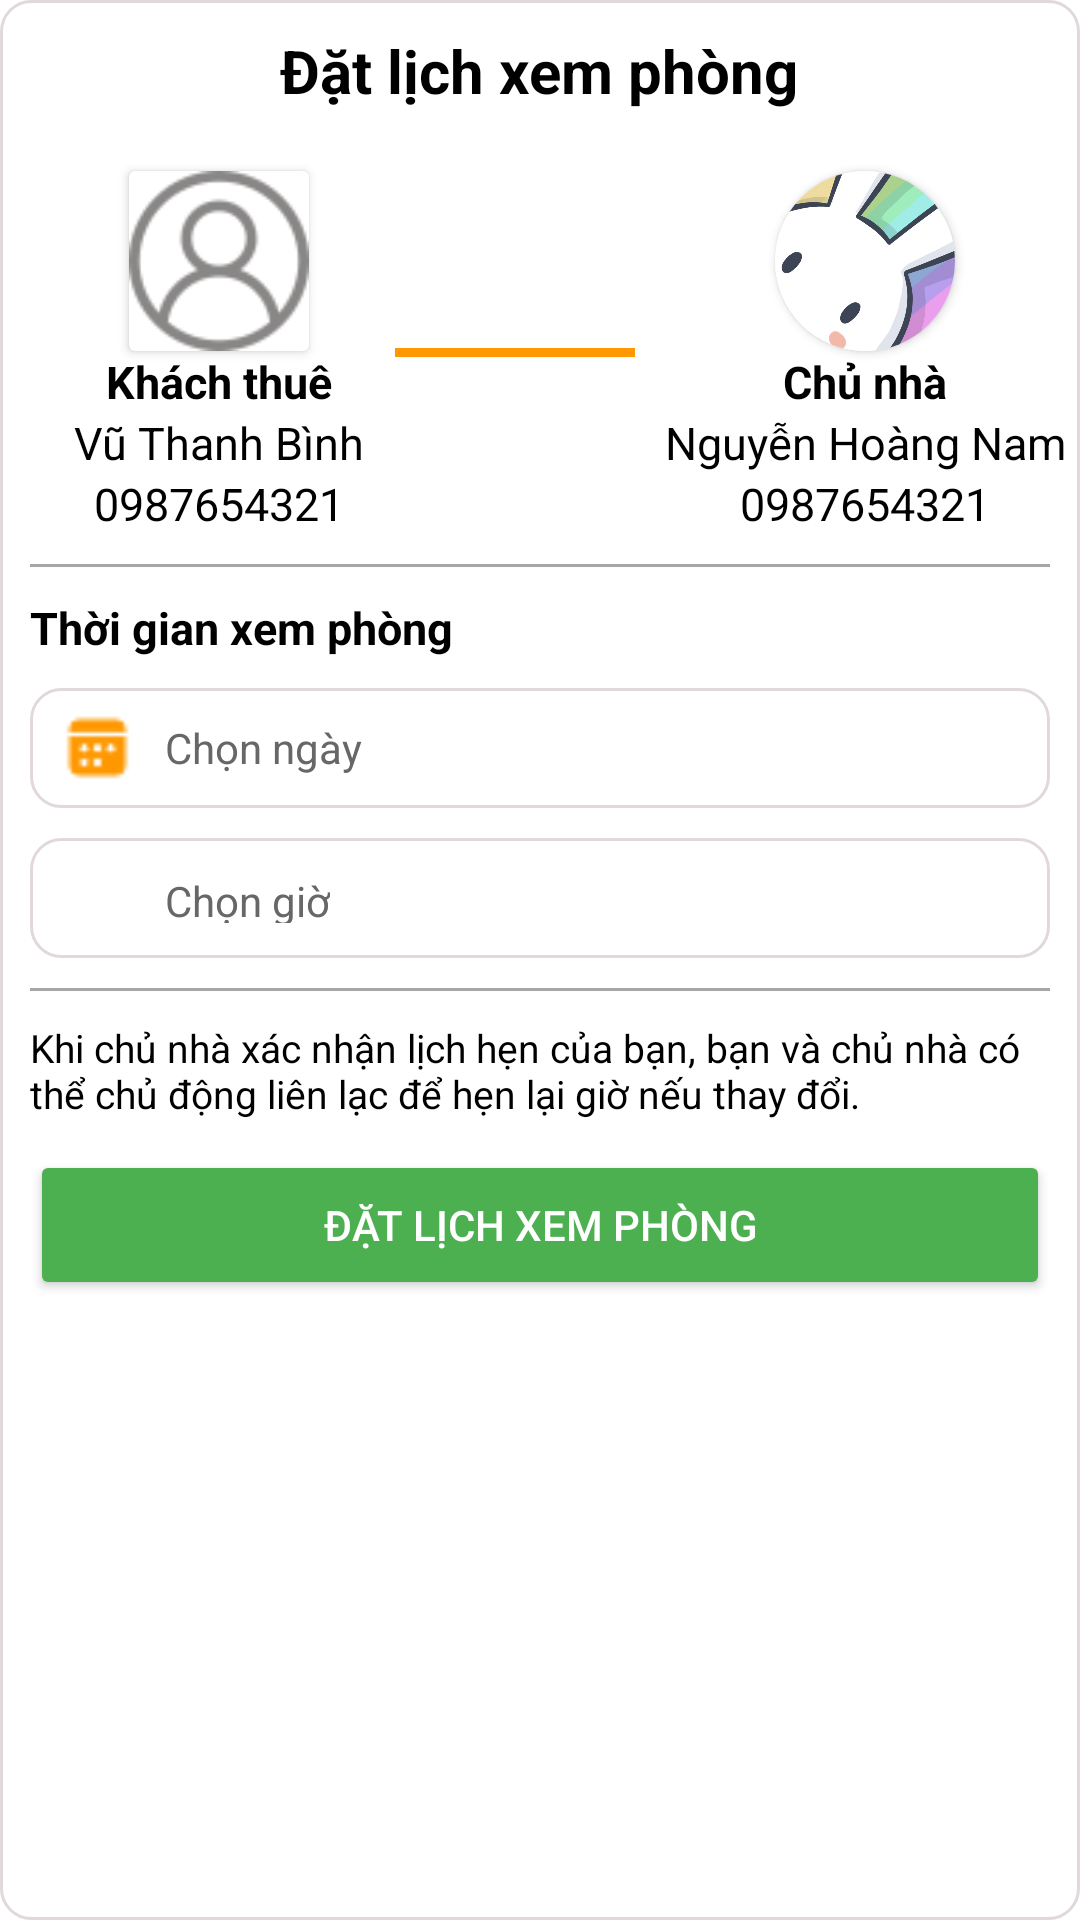

Named icons in this screenshot (1080×1920) and their bounding boxes, (x1, y1, x2, y2):
calendar: (66, 716, 129, 779)
user: (129, 171, 309, 351)
